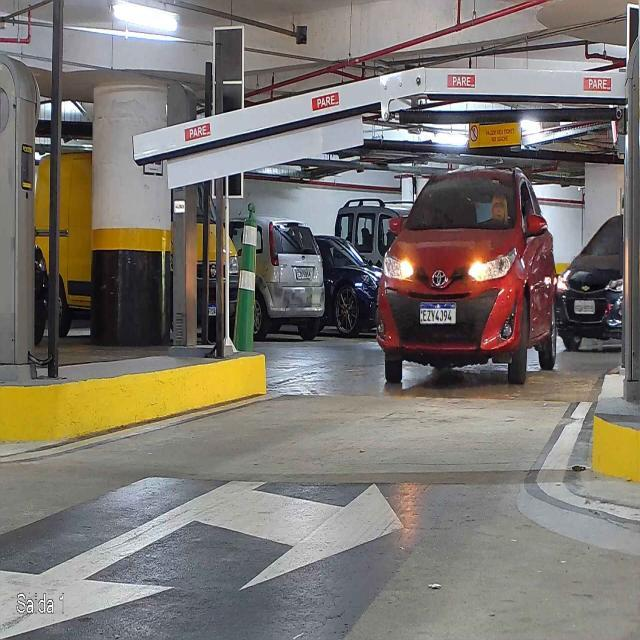mercosul_plate: (419, 300, 457, 325)
